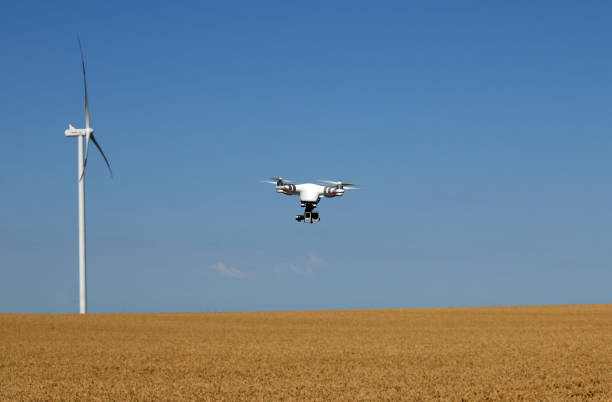Drone: (257, 170, 360, 230)
